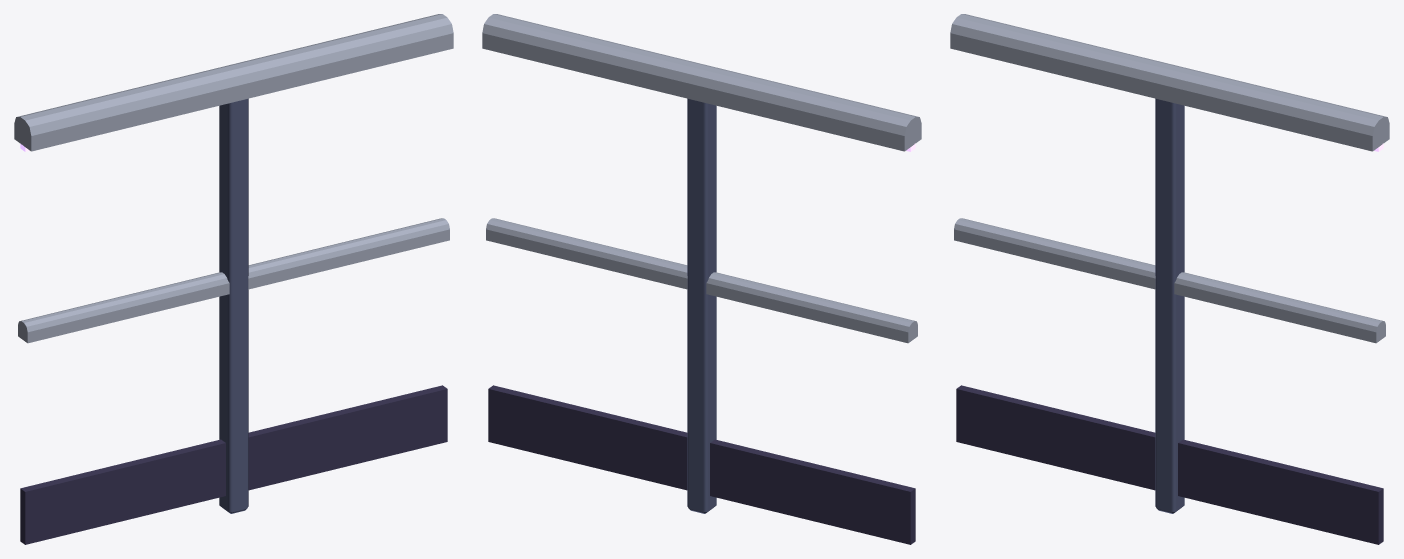
Rendered from gelaender.glb.
3 views of the same model, side by side, from view 1: azimuth 30°, elevation 25°; view 2: azimuth 150°, elevation 25°; view 3: azimuth 330°, elevation 25° (orthographic).
Parts seen in each view (by area): view 1: gelaender; view 2: gelaender; view 3: gelaender.
Part boxes in pixels (<box>): gelaender: <box>14,14,453,544</box>; gelaender: <box>482,14,921,544</box>; gelaender: <box>950,14,1389,544</box>.
Bounding box in the file's own units: 1 × 1 × 0.07.
